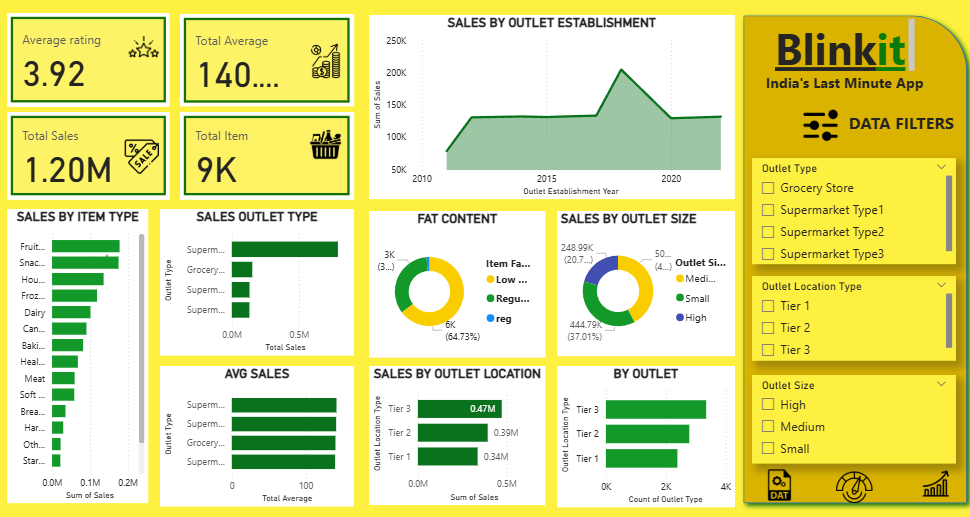

Layout of this report page (visuals, bound fields, positions):
{"tool":"powerbi","page":{"name":"Page 1","canvas":[1280,720],"ordinal":0},"visuals":[{"type":"textbox","title":"Blink ","box":[799.6,85.7,132.7,67.2],"z":0},{"type":"donutChart","title":"FAT CONTENT","fields":{"Category":["Blinkit.Item Fat Content"],"Y":["Blinkit.Total Item"]},"box":[486.9,316.4,231.1,191.8],"z":1000},{"type":"clusteredBarChart","title":"BY OUTLET","fields":{"Category":["Blinkit.Outlet Location Type"],"Y":["CountNonNull(Blinkit.Outlet Type)"]},"box":[732.8,519.7,232.8,185.2],"z":2000},{"type":"barChart","title":"SALES BY ITEM TYPE","fields":{"Category":["Blinkit.Item Type"],"Y":["Sum(Blinkit.Sales)"]},"box":[13.1,314.8,185.2,385.2],"z":3000},{"type":"donutChart","title":"SALES BY OUTLET SIZE","fields":{"Category":["Blinkit.Outlet Size"],"Y":["Sum(Blinkit.Sales)"]},"box":[732.8,316.4,232.8,190.2],"z":4000},{"type":"areaChart","title":"SALES BY OUTLET ESTABLISHMENT","fields":{"Category":["Blinkit.Outlet Establishment Year"],"Y":["Sum(Blinkit.Sales)"]},"box":[486.9,60.7,478.7,241],"z":5000},{"type":"barChart","title":"SALES BY OUTLET LOCATION","fields":{"Y":["Sum(Blinkit.Sales)"],"Category":["Blinkit.Outlet Location Type"]},"box":[486.9,519.7,231.1,182],"z":6000},{"type":"barChart","title":"SALES OUTLET TYPE","fields":{"Y":["Blinkit.Total Sales"],"Category":["Blinkit.Outlet Type"]},"box":[213.1,314.8,254.1,191.8],"z":7000},{"type":"barChart","title":"AVG SALES","fields":{"Category":["Blinkit.Outlet Type"],"Y":["Blinkit.Total Average"]},"box":[213.1,519.7,254.1,183.6],"z":8000},{"type":"shape","box":[965.6,49.2,314.8,660.7],"z":9000},{"type":"slicer","fields":{"Values":["Blinkit.Outlet Location Type"]},"box":[988.5,401.6,267.2,111.5],"z":10000},{"type":"slicer","fields":{"Values":["Blinkit.Outlet Size"]},"box":[988.5,531.1,267.2,116.4],"z":11000},{"type":"slicer","fields":{"Values":["Blinkit.Outlet Type"]},"box":[988.5,247.5,267.2,139.3],"z":12000},{"type":"cardVisual","fields":{"Data":["Blinkit.Average rating"]},"box":[13.1,57.4,213.1,123],"z":13000},{"type":"cardVisual","fields":{"Data":["Blinkit.Total Average"]},"box":[239.3,59,227.9,121.3],"z":14000},{"type":"cardVisual","fields":{"Data":["Blinkit.Total Item"]},"box":[239.3,186.9,227.9,114.8],"z":15000},{"type":"cardVisual","fields":{"Data":["Blinkit.Total Sales"]},"box":[13.1,186.9,213.1,114.8],"z":16000},{"type":"textbox","box":[1012.9,60,192.9,81.4],"z":17000},{"type":"textbox","box":[1001.6,131.1,227.9,41],"z":18000},{"type":"image","box":[1206.6,650.8,44.3,45.9],"z":19000},{"type":"image","box":[1091.4,648.6,61.4,61.4],"z":20000},{"type":"image","box":[137.1,350,12.9,50],"z":21000},{"type":"image","box":[998.4,647.5,50.8,55.7],"z":22000},{"type":"textbox","box":[1109.8,182,149.2,60.7],"z":23000},{"type":"image","box":[1049.2,173.8,59,60.7],"z":24000}]}

Visuals, with their boxes on the page's 1280x720 design canvas (x1, y1, x2, y2). These are canvas units, not pixel positions in the 970x517 screenshot, which may show the page scaled, cropped or inside an application window:
"Blink " textbox: select_region(800, 86, 932, 153)
"FAT CONTENT" donutChart: select_region(487, 316, 718, 508)
"BY OUTLET" clusteredBarChart: select_region(733, 520, 966, 705)
"SALES BY ITEM TYPE" barChart: select_region(13, 315, 198, 700)
"SALES BY OUTLET SIZE" donutChart: select_region(733, 316, 966, 507)
"SALES BY OUTLET ESTABLISHMENT" areaChart: select_region(487, 61, 966, 302)
"SALES BY OUTLET LOCATION" barChart: select_region(487, 520, 718, 702)
"SALES OUTLET TYPE" barChart: select_region(213, 315, 467, 507)
"AVG SALES" barChart: select_region(213, 520, 467, 703)
shape: select_region(966, 49, 1280, 710)
slicer - Blinkit.Outlet Location Type: select_region(988, 402, 1256, 513)
slicer - Blinkit.Outlet Size: select_region(988, 531, 1256, 648)
slicer - Blinkit.Outlet Type: select_region(988, 248, 1256, 387)
cardVisual - Blinkit.Average rating: select_region(13, 57, 226, 180)
cardVisual - Blinkit.Total Average: select_region(239, 59, 467, 180)
cardVisual - Blinkit.Total Item: select_region(239, 187, 467, 302)
cardVisual - Blinkit.Total Sales: select_region(13, 187, 226, 302)
textbox: select_region(1013, 60, 1206, 141)
textbox: select_region(1002, 131, 1230, 172)
image: select_region(1207, 651, 1251, 697)
image: select_region(1091, 649, 1153, 710)
image: select_region(137, 350, 150, 400)
image: select_region(998, 648, 1049, 703)
textbox: select_region(1110, 182, 1259, 243)
image: select_region(1049, 174, 1108, 234)
